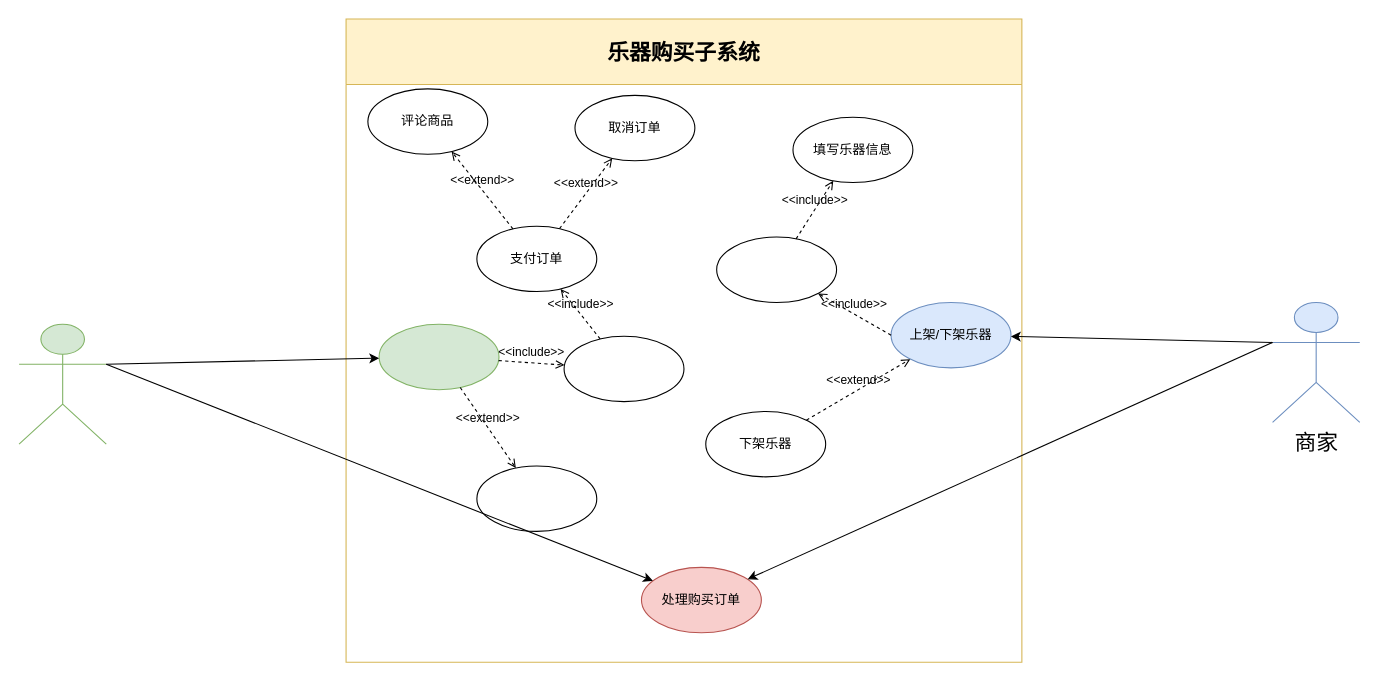
Image size: 1379x681. Some labels were removed from this diagram. The shapes that lost their labels are listed below. From the top down, each one's centre as x and y in pixels, then its label:
the point at 776,269: 上架乐器
the point at 438,356: 访问商城
the point at 623,368: 购买乐器
the point at 62,383: 买家
the point at 536,498: 收藏乐器
